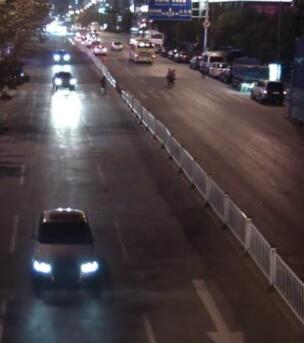bus: (128, 37, 156, 64), (137, 28, 164, 51), (128, 25, 141, 44)
car: (30, 208, 99, 291), (232, 55, 268, 91), (248, 79, 283, 105), (198, 49, 223, 73), (51, 70, 77, 91), (208, 59, 229, 80), (51, 46, 71, 64), (172, 48, 187, 62), (92, 43, 108, 55), (188, 54, 201, 68), (109, 39, 124, 51)
